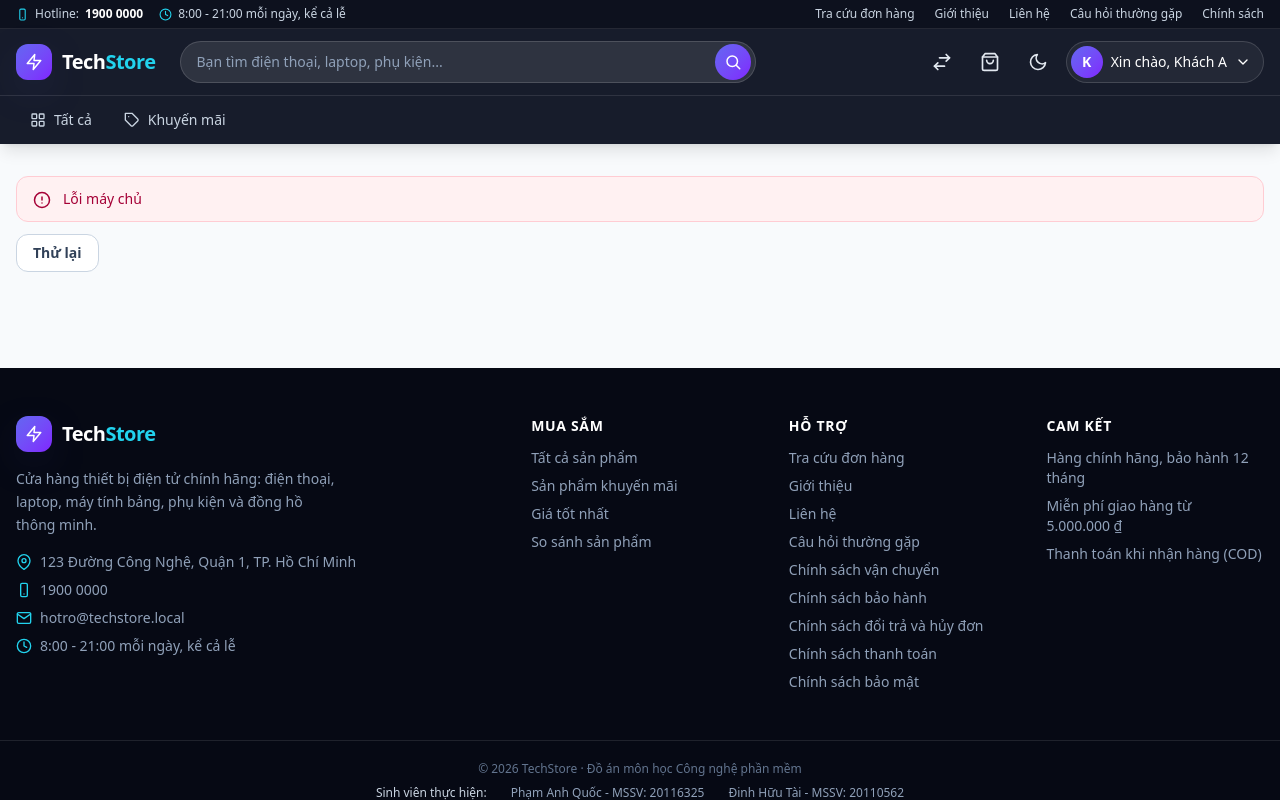
Test: Trang đặt hàng - hiển thị › lỗi tải giỏ: hiện thông báo, Thử lại tải được lại
This screenshot has width=1280, height=800.
Expected: the message reads "Lỗi máy chủ", [63,189,142,208]
Click the button "Thử lại".
click(57, 253)  # box [16,234,99,272]
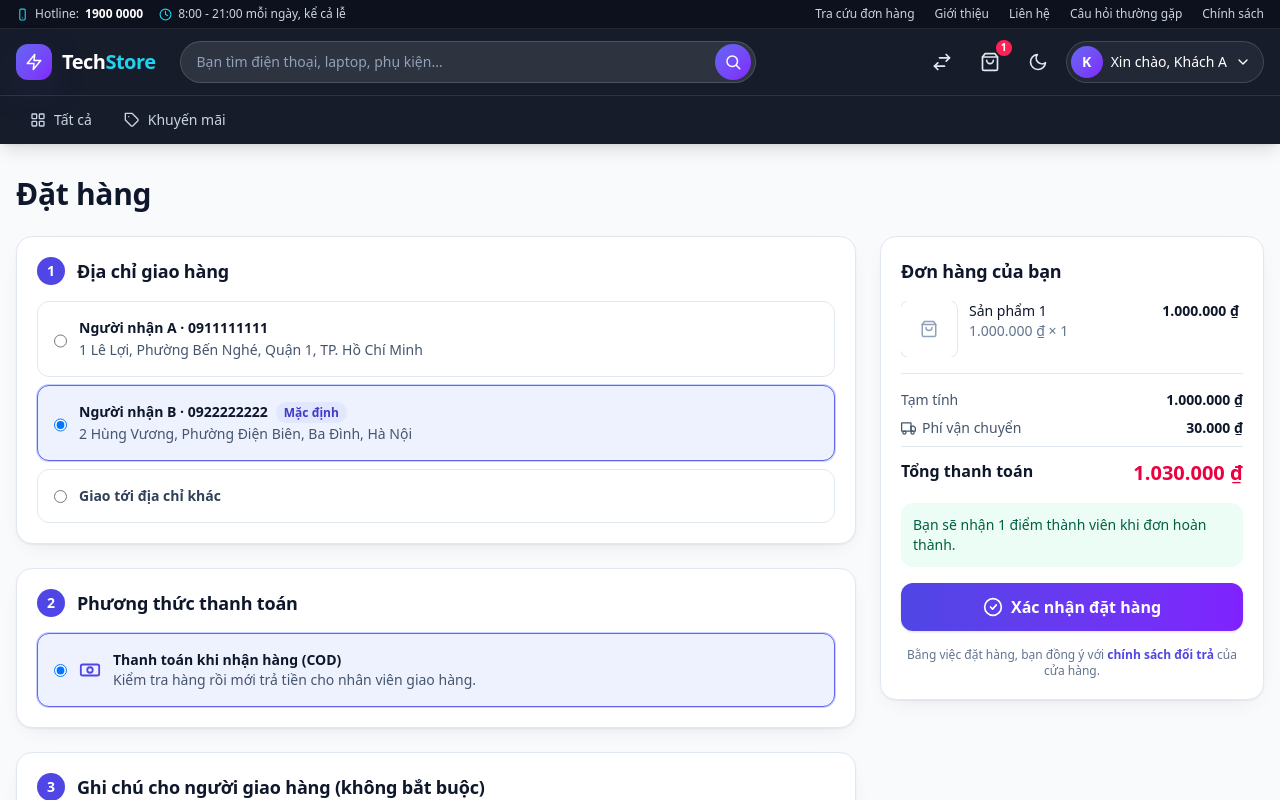
Expected: the heading "Đặt hàng" is shown, [16,173,151,214]
